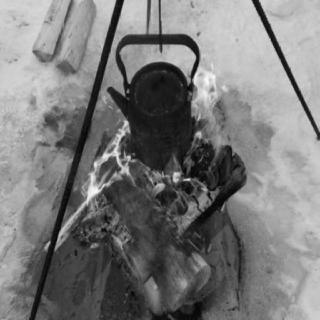Fire: (84, 110, 134, 208), (137, 158, 210, 201)
